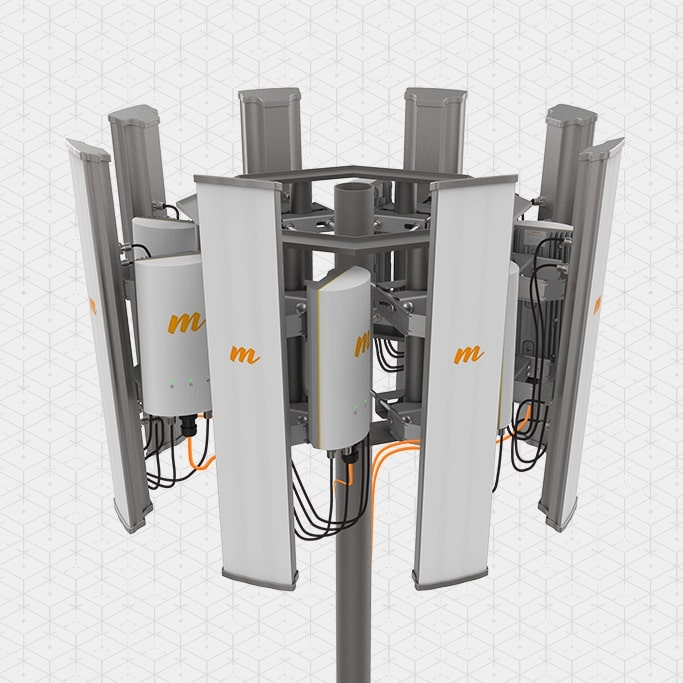sa: (170, 154, 313, 608), (48, 128, 148, 559), (426, 168, 517, 617), (561, 137, 632, 560), (293, 262, 380, 475), (143, 265, 208, 443)
